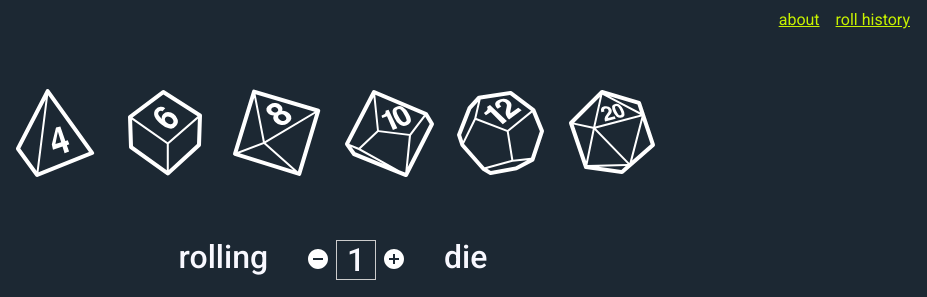
Scenario: <Roller /> › switches grammar for single/many
expect the text "dice" is not shown: met
expect the text "die" is shown: met, box 444,238 -> 487,276
Step 1. Click the button titled "increment" → (394, 260), box 376,240 -> 412,280
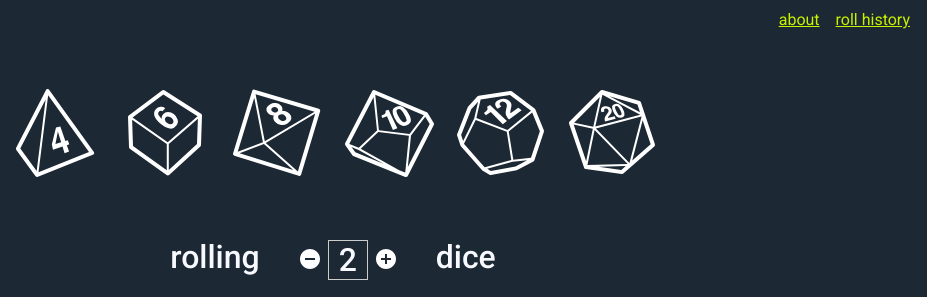
expect the text "die" is gone: met
expect the text "dice" is shown: met, box 436,238 -> 496,276
